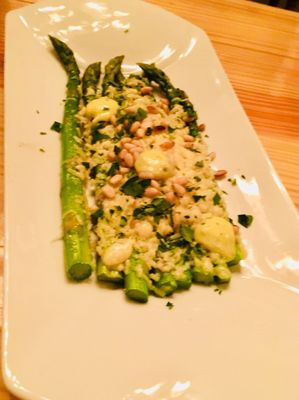curry: (133, 197, 173, 218)
